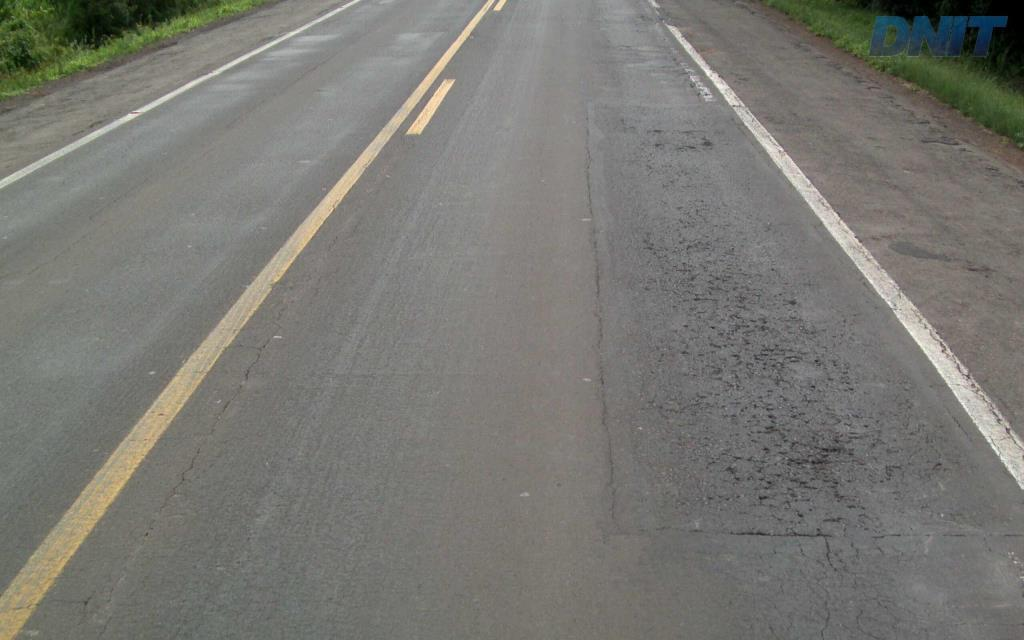crack: (745, 428, 865, 502), (729, 527, 837, 571), (752, 343, 802, 386)
